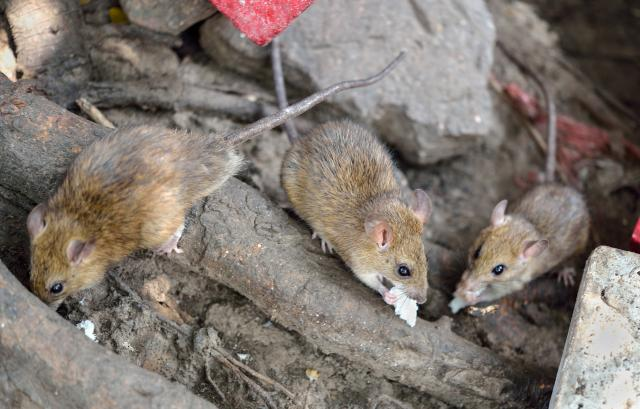rat: (7, 101, 261, 320), (272, 105, 448, 323), (442, 160, 606, 334)
